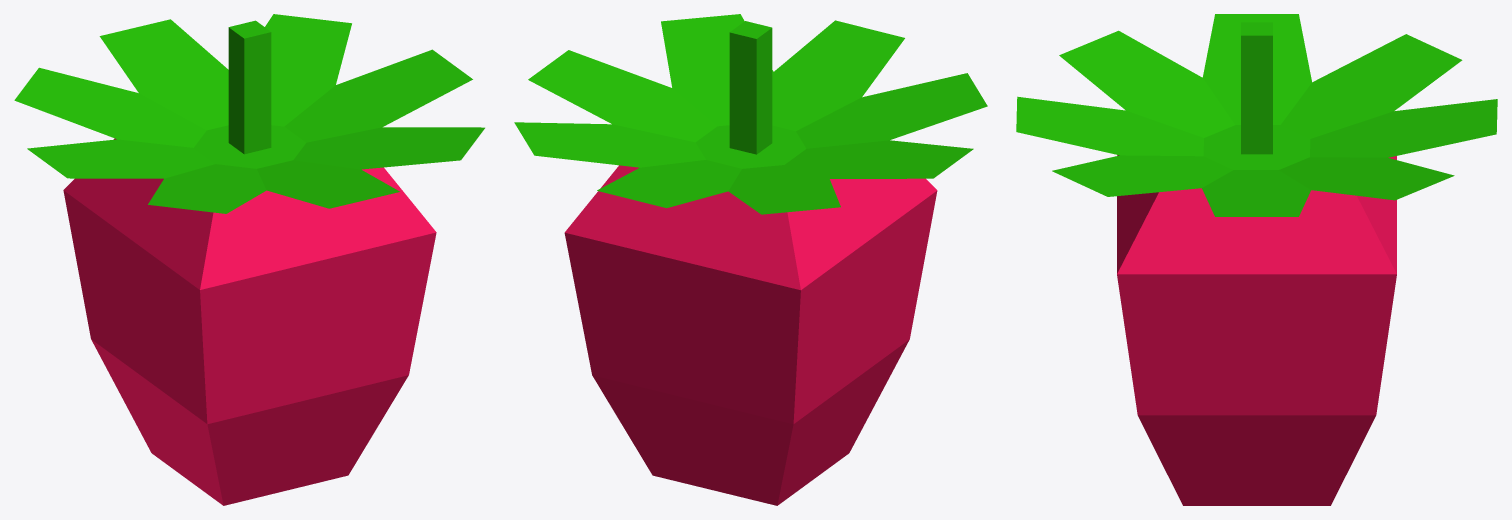
File: berry.fbx
3 views of the same model, side by side, from view 1: azimuth 30°, elevation 25°; view 2: azimuth 150°, elevation 25°; view 3: azimuth 270°, elevation 25° (orthographic). The views are drawn at different scales.
Visible parts, largest first — view 1: Plane; view 2: Plane; view 3: Plane.
Part boxes in pixels (left/top/right/bottom): Plane: left=14, top=14, right=484, bottom=505; Plane: left=514, top=14, right=987, bottom=505; Plane: left=1016, top=14, right=1497, bottom=505.
Size of the model in its own units: 396 by 405 by 397.
